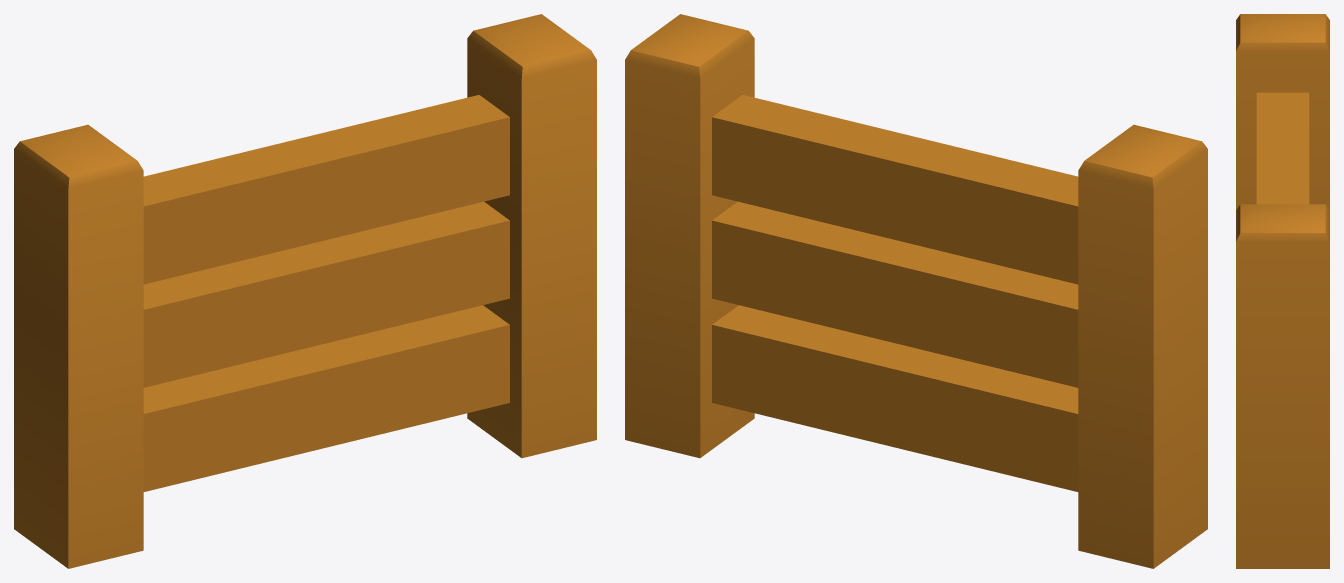
File: Board.fbx
The picture shows the model from 3 angles, left to right: view 1: azimuth 30°, elevation 25°; view 2: azimuth 150°, elevation 25°; view 3: azimuth 270°, elevation 25°; orthographic projection. The views are drawn at different scales.
Parts seen in each view (by area): view 1: Board; view 2: Board; view 3: Board.
Boxes of the visible parts, x1=… form: Board: x1=14, y1=14, x2=596, y2=568; Board: x1=625, y1=14, x2=1207, y2=568; Board: x1=1236, y1=14, x2=1329, y2=568.
Size of the model in its own units: 3.5 by 2.48 by 0.624.
